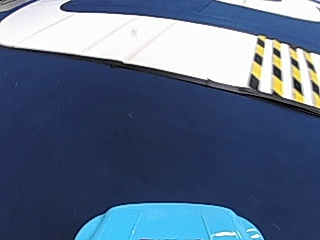bump: (245, 37, 317, 102)
